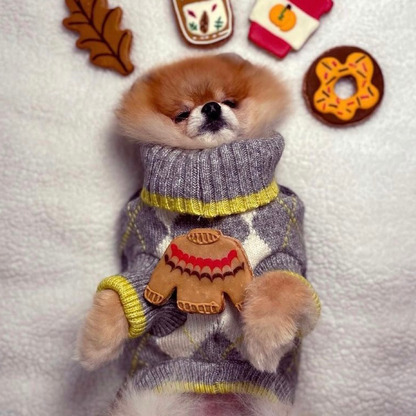Pomeranian: (82, 59, 323, 397)
